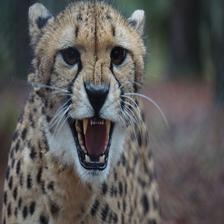Cheetah: (0, 0, 161, 224)
